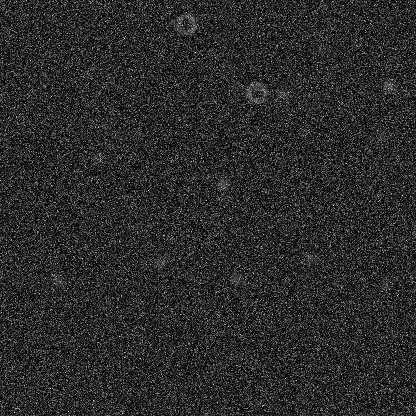Ring: (173, 12, 197, 36), (244, 80, 268, 104)
Spot: (214, 176, 230, 192), (346, 243, 362, 259), (57, 330, 73, 346), (228, 270, 244, 286), (121, 220, 137, 236), (216, 189, 232, 205), (90, 150, 106, 166), (98, 112, 114, 128), (313, 41, 329, 57), (380, 78, 396, 94), (170, 232, 186, 248), (372, 127, 388, 143), (273, 85, 289, 101), (49, 272, 65, 288), (377, 277, 393, 293), (154, 48, 170, 64), (302, 250, 318, 266), (151, 254, 167, 270)
